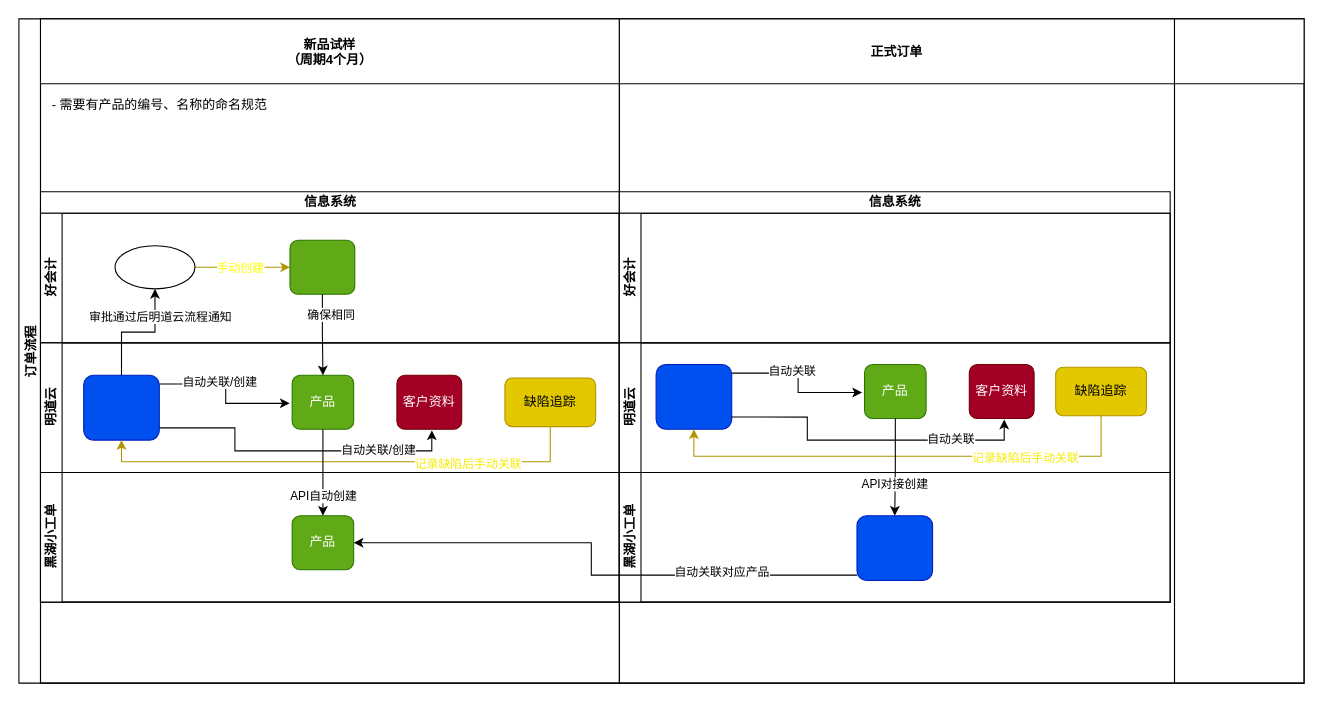
The diagram is 1323 pixels wide and 702 high, and some of its shapes have lost their labels. The centre of each missing label's shape, as x and y in pixels:
"商品" belongs at point 322,266.
"正式订单 创建、审批" belongs at point 693,396.
"生产与交付" belongs at point 1238,350.
"生产工单" belongs at point 894,547.
"试样订单 创建、审批" belongs at point 121,407.
"财务人员" belongs at point 154,267.
